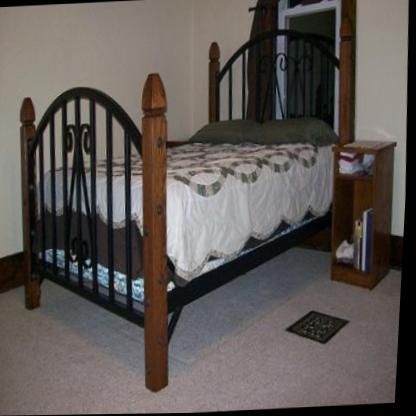Bed: (22, 36, 341, 393)
